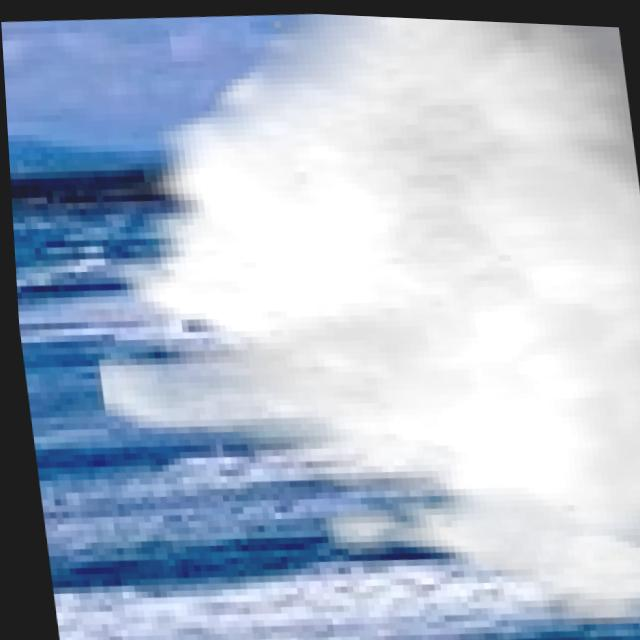smoke: (47, 2, 640, 640)
